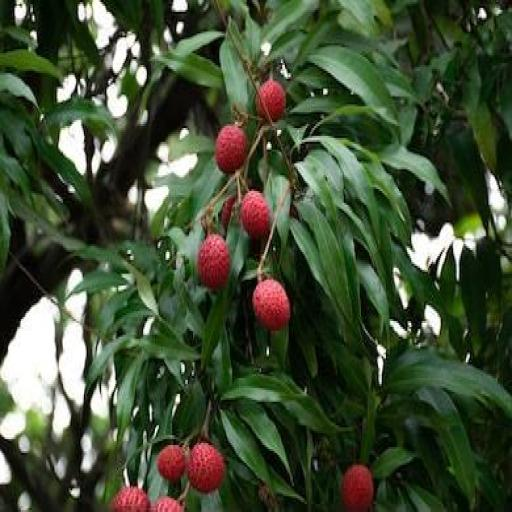lychee: (253, 278, 290, 330), (188, 442, 225, 494), (197, 235, 229, 289), (216, 125, 248, 173), (341, 465, 374, 511), (241, 192, 270, 238), (256, 79, 286, 122), (157, 446, 186, 482), (111, 487, 150, 511), (221, 195, 236, 230), (151, 497, 183, 511)
